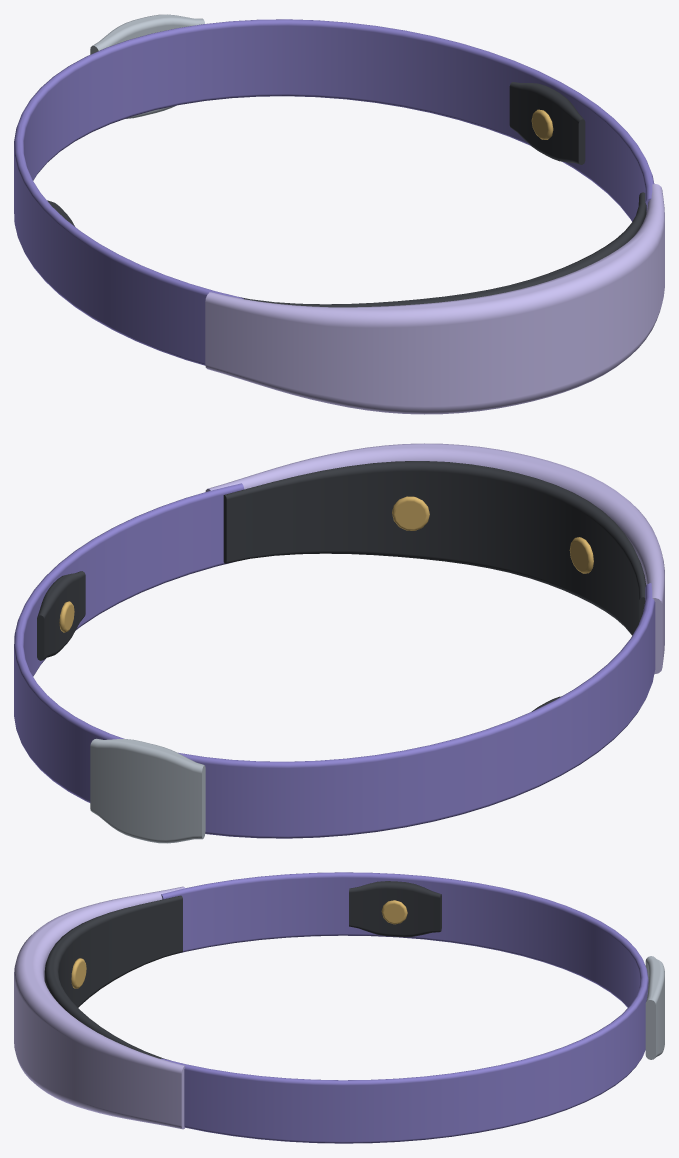
Rendered from headband.glb.
3 renders of one model, top to bottom at view 1: azimuth 30°, elevation 25°; view 2: azimuth 150°, elevation 25°; view 3: azimuth 270°, elevation 25°, orthographic. The views are drawn at different scales.
Parts seen in each view (by area): view 1: Strap, Shell, Sensors_Temple, Liner, Battery; view 2: Strap, Liner, Shell, Battery, Sensors_Temple, Sensors_Front; view 3: Strap, Shell, Liner, Sensors_Temple, Battery.
Part boxes in pixels (x1=…): Strap: x1=14, y1=19, x2=654, y2=365; Shell: x1=205, y1=184, x2=664, y2=414; Sensors_Temple: x1=47, y1=82, x2=585, y2=226; Liner: x1=241, y1=192, x2=646, y2=307; Battery: x1=90, y1=14, x2=204, y2=118; Strap: x1=14, y1=483, x2=655, y2=838; Liner: x1=223, y1=461, x2=646, y2=635; Shell: x1=205, y1=443, x2=664, y2=673; Battery: x1=90, y1=738, x2=205, y2=843; Sensors_Temple: x1=37, y1=571, x2=561, y2=711; Sensors_Front: x1=392, y1=496, x2=593, y2=573; Strap: x1=161, y1=872, x2=648, y2=1143; Shell: x1=14, y1=886, x2=184, y2=1129; Liner: x1=44, y1=895, x2=182, y2=1059; Sensors_Temple: x1=349, y1=881, x2=441, y2=937; Battery: x1=645, y1=956, x2=664, y2=1059.
Size of the model in its own units: 0.1586 by 0.031 by 0.2064.
